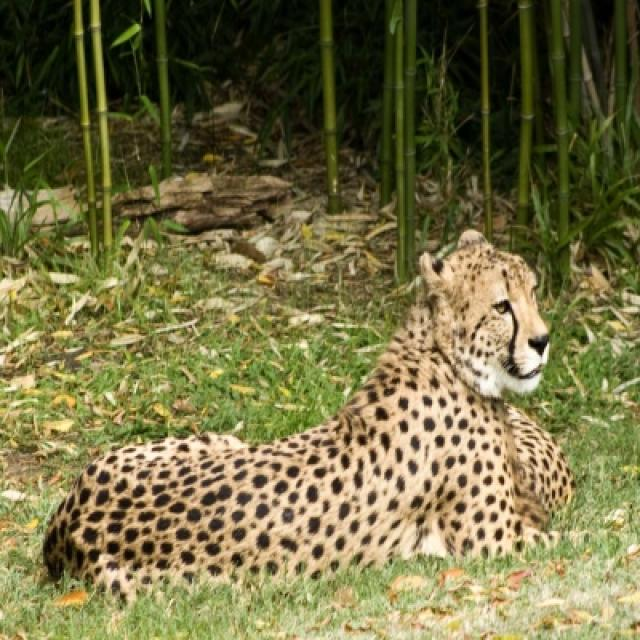Cheetah: (38, 230, 574, 605)
